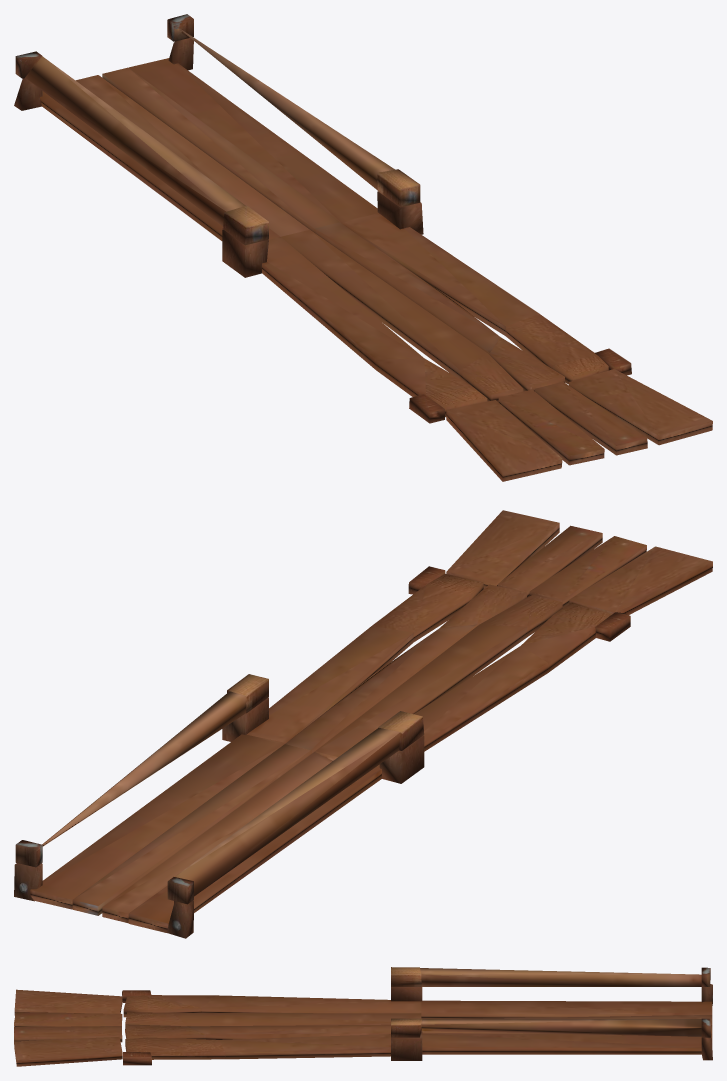
Rendered from drawbridge.glb.
The picture shows the model from 3 angles, top to bottom: view 1: azimuth 30°, elevation 25°; view 2: azimuth 150°, elevation 25°; view 3: azimuth 270°, elevation 25°; orthographic projection. The views are drawn at different scales.
Bounding box in the file's own units: 0.2275 × 0.0532 × 0.9561.
Materials: 1 (1 with a texture image).
